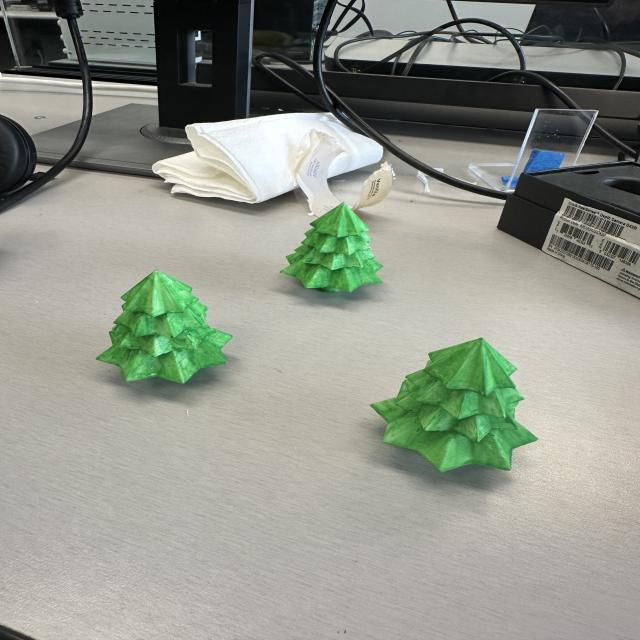tree: (369, 338, 538, 474), (96, 270, 235, 386), (278, 203, 386, 293)
